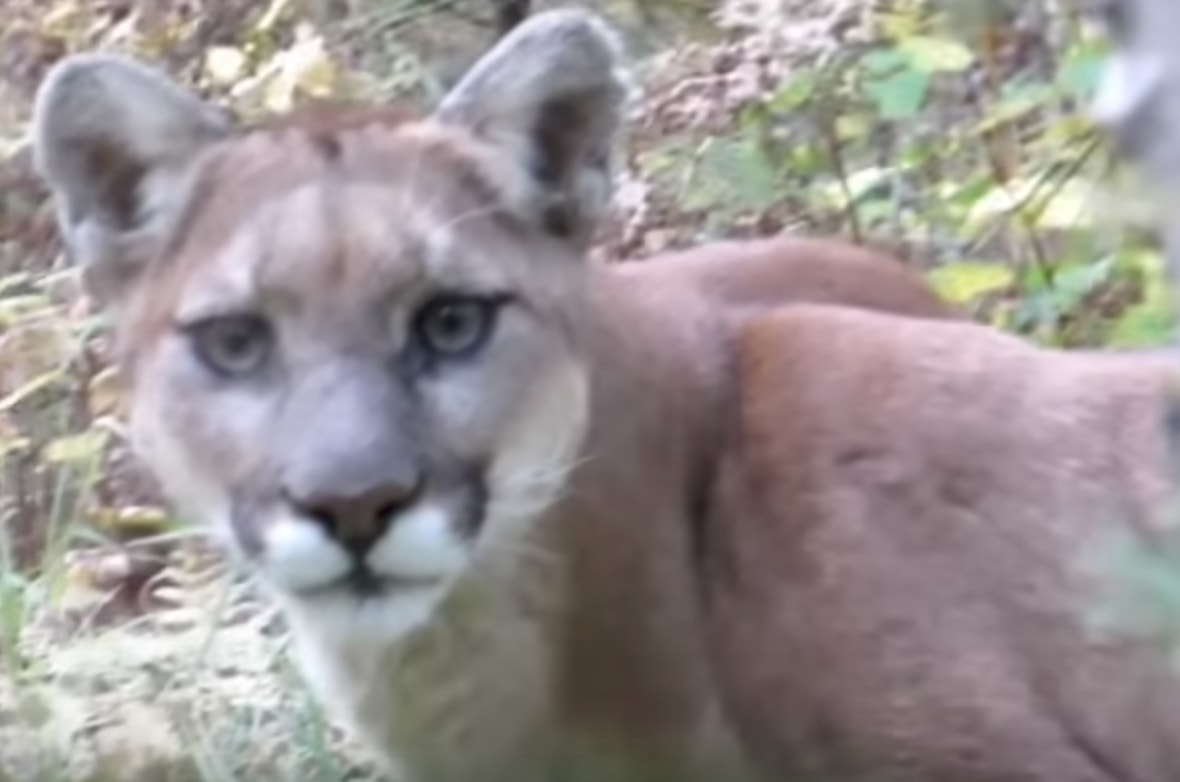Mountain Lion: (18, 19, 1180, 782)
